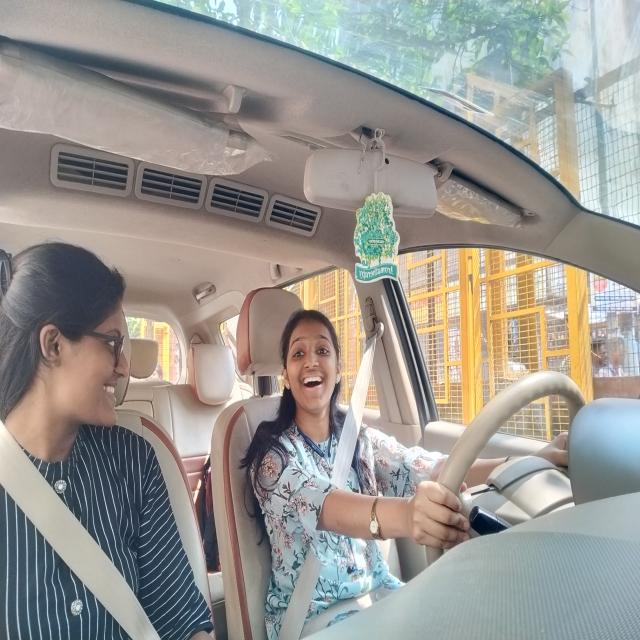person: (0, 222, 146, 476), (272, 296, 357, 428)
